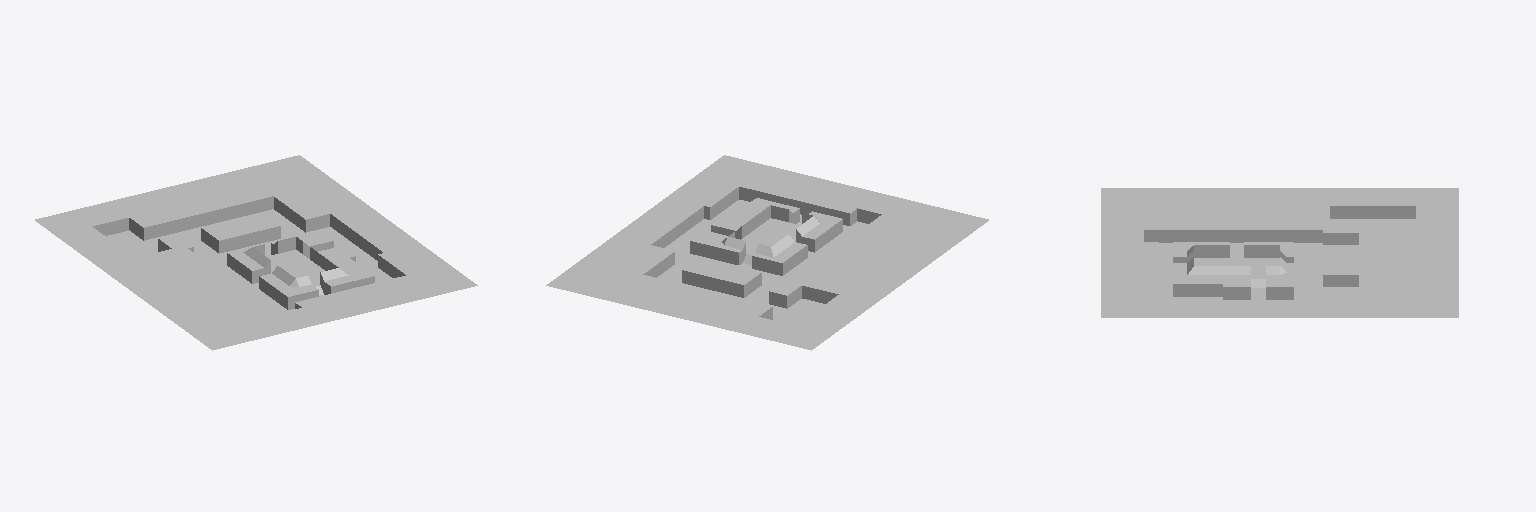
The model's file is Arena1.obj.
The picture shows the model from 3 angles: view 1: azimuth 30°, elevation 25°; view 2: azimuth 150°, elevation 25°; view 3: azimuth 270°, elevation 25°; orthographic projection.
Visible parts, largest first — view 1: Default; view 2: Default; view 3: Default.
Boxes of the visible parts, x1=… form: Default: x1=35, y1=155, x2=477, y2=350; Default: x1=546, y1=155, x2=988, y2=350; Default: x1=1101, y1=188, x2=1458, y2=317.
Size of the model in its own units: 43 by 3 by 50.